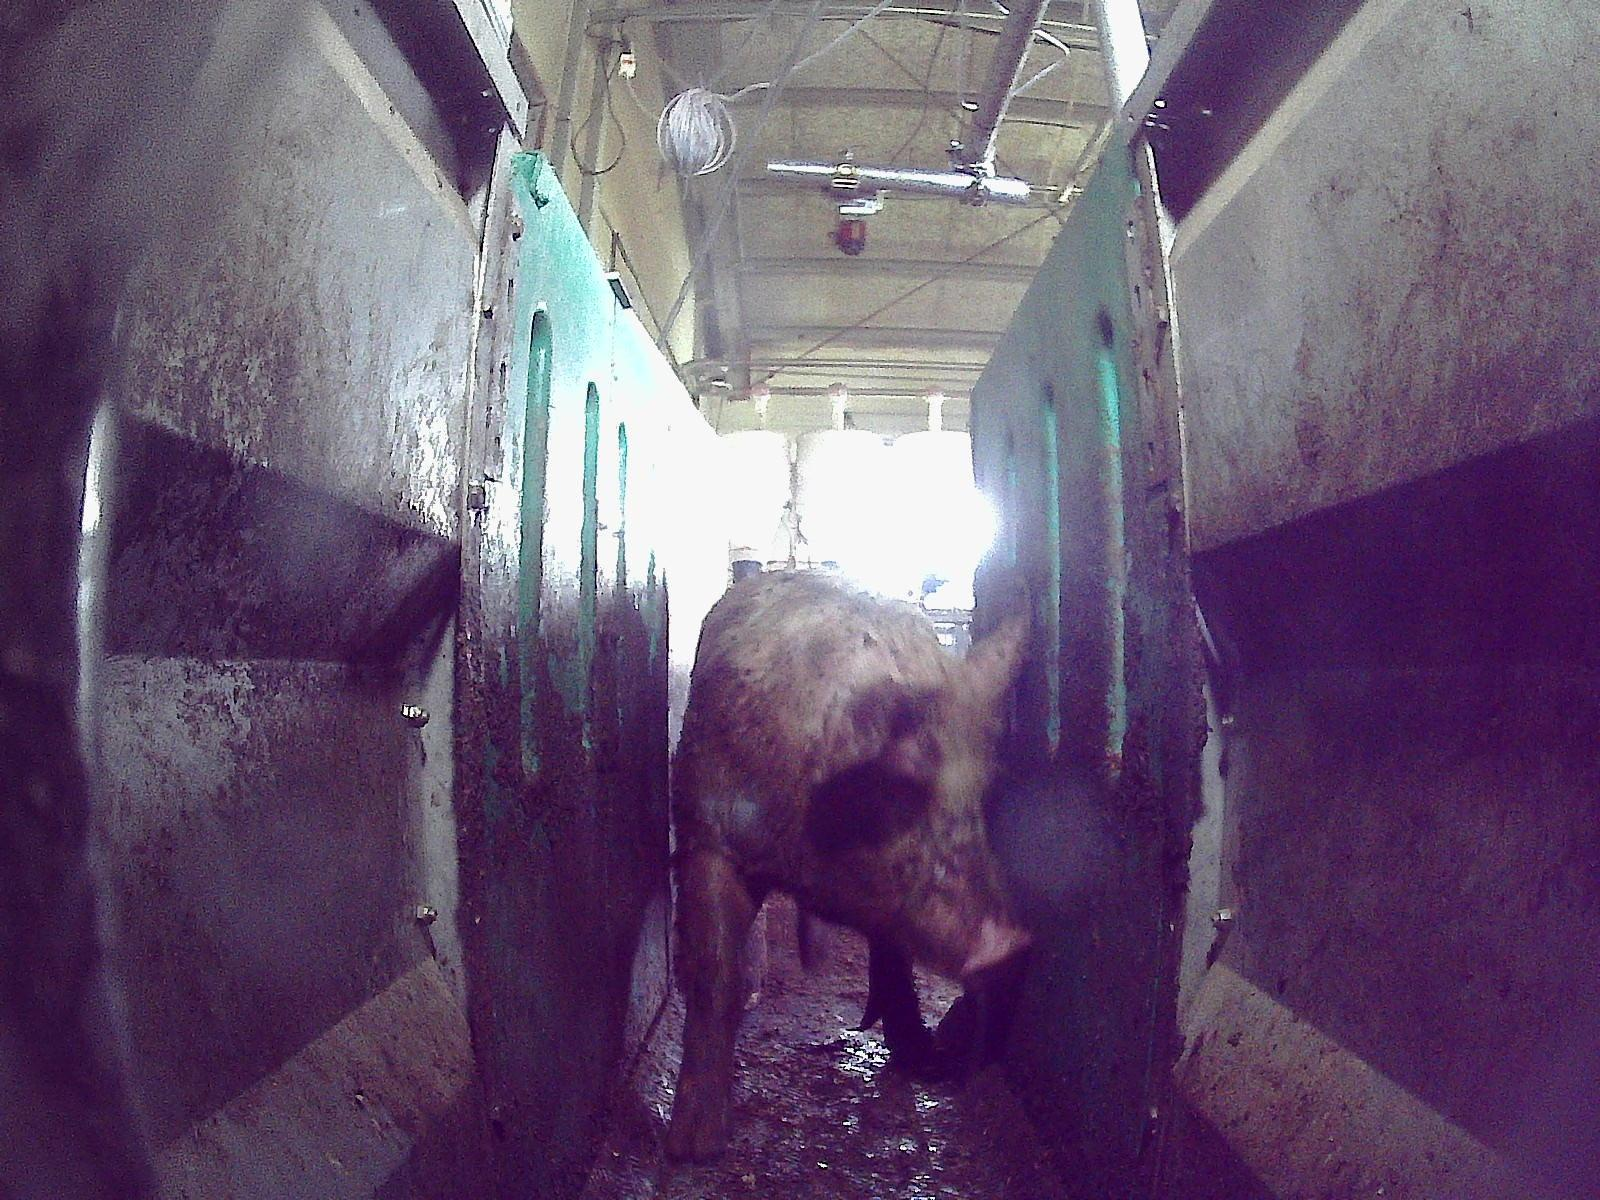Face: (818, 697, 1036, 985)
